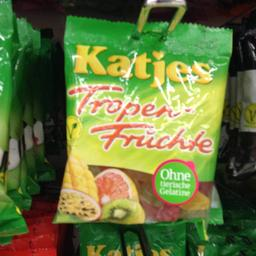candy: (55, 16, 233, 226)
